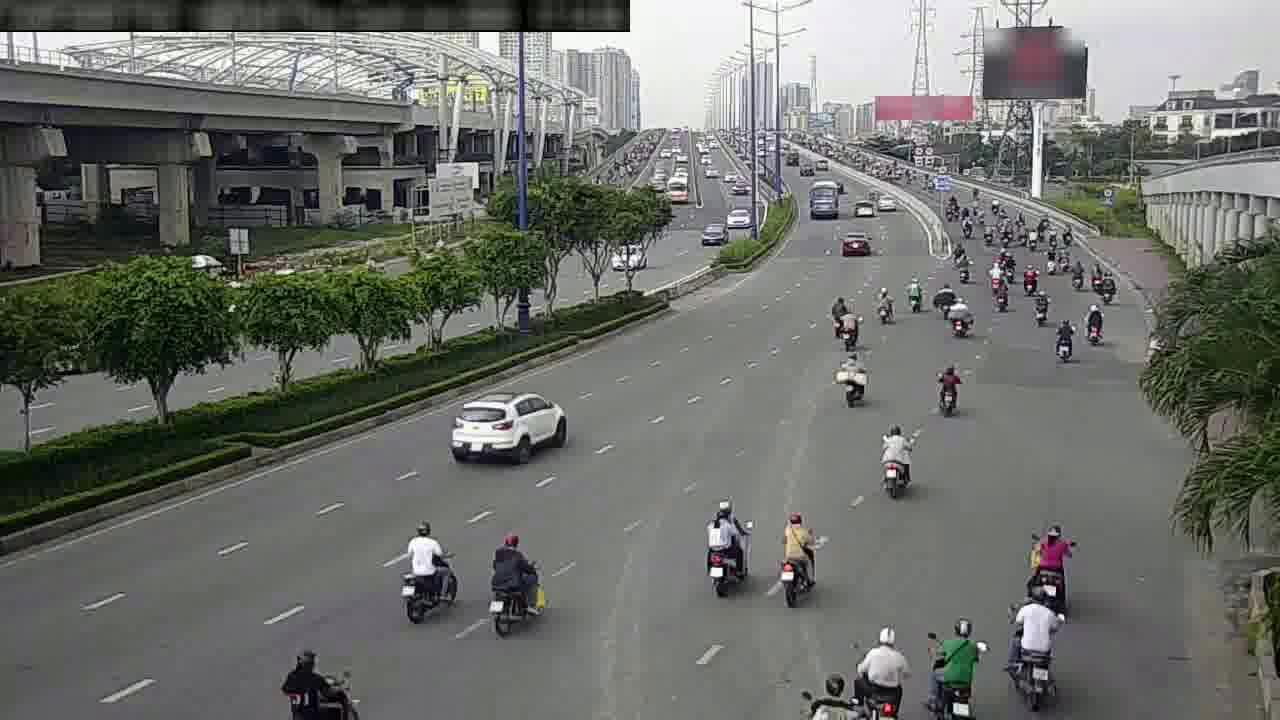container: (446, 381, 567, 462), (835, 227, 874, 258)
motorbike: (390, 521, 463, 626), (270, 632, 362, 714), (480, 531, 548, 636), (837, 631, 911, 712), (924, 612, 983, 712), (1005, 591, 1058, 696), (698, 500, 755, 593), (1020, 518, 1075, 605), (769, 509, 822, 595), (872, 424, 918, 498), (831, 346, 871, 406), (928, 358, 964, 414), (1048, 318, 1078, 365), (1079, 302, 1107, 346), (870, 284, 898, 325), (1026, 287, 1051, 328), (901, 274, 927, 313), (949, 295, 971, 338), (989, 277, 1013, 315), (930, 276, 954, 312), (841, 309, 861, 351), (828, 295, 848, 337), (952, 250, 974, 285), (1017, 260, 1038, 296), (1065, 257, 1086, 292), (1103, 265, 1119, 301), (1089, 260, 1105, 296)
